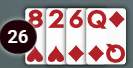2: (45, 8, 66, 30)
6: (67, 8, 86, 29)
8: (25, 9, 44, 28)
q: (87, 8, 109, 31)
